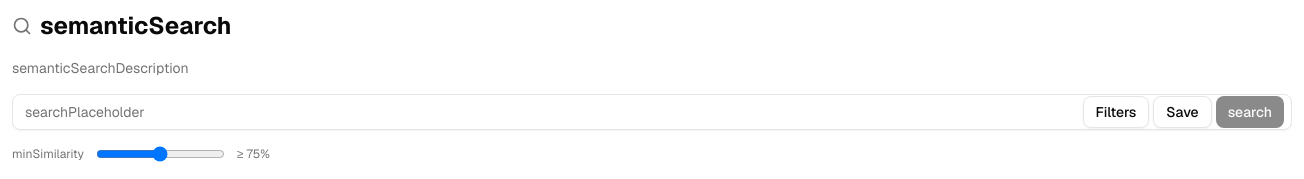
Test: SearchBar › Search Input › clears input when clear button is clicked
The width and height of the screenshot is (1304, 179).
Type "test query" into the field with placeholder "searchPlaceholder". click: (652, 112)
box: [12,94,1292,130]
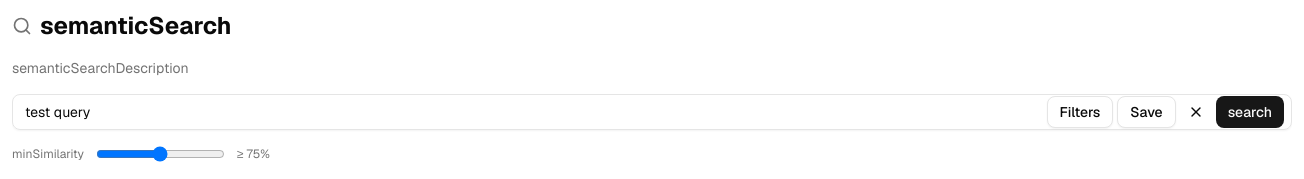
Click the button named "clear". click: click(1196, 112)
box: [1180,96,1212,128]
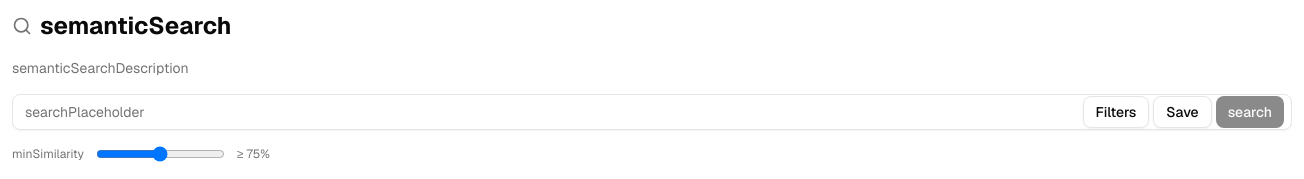
Now the field with placeholder "searchPlaceholder" is empty, box [12,94,1292,130]
